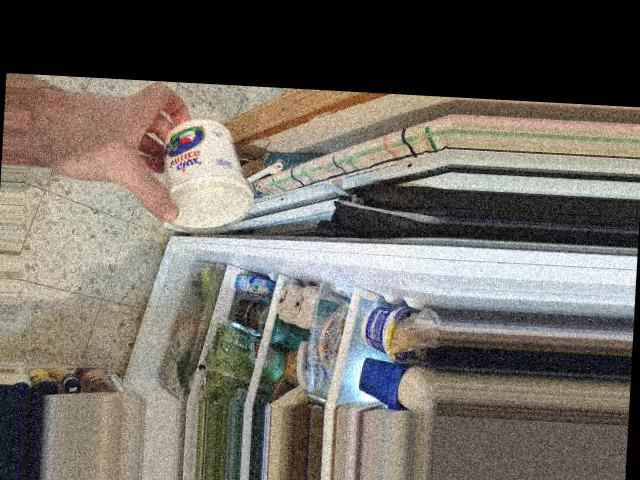cotage: (144, 112, 260, 237)
